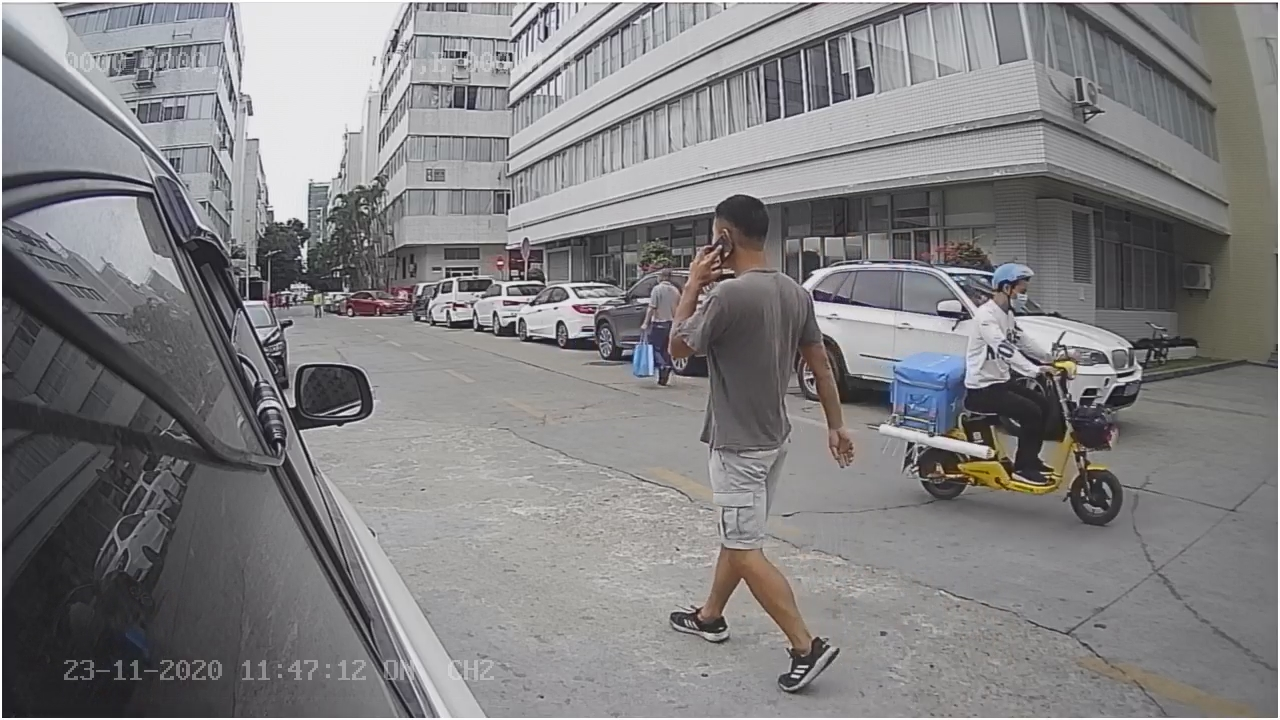person: (650, 189, 851, 690), (957, 248, 1058, 376)
